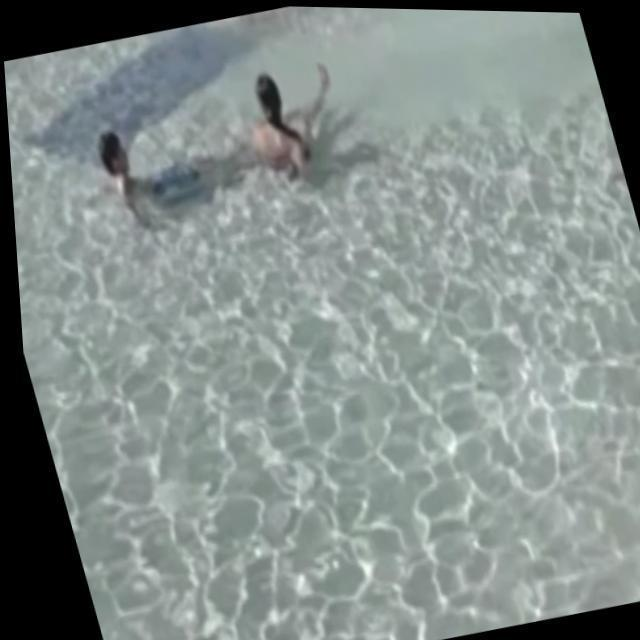swimming: (227, 59, 406, 190), (90, 118, 224, 221)
